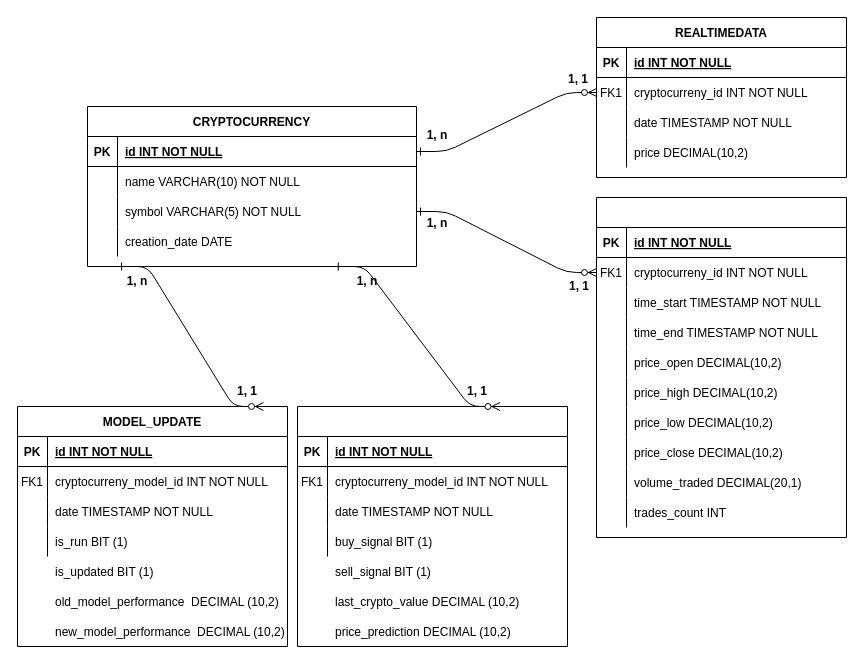
Image size: 864x664. Some labels were removed from this diagram. The box of each missing label's shape, as (x1, y1, x2, y2) in pixels:
HISTORICALDATA: (596, 196, 846, 538)
MODEL_PREDICTION: (296, 406, 568, 646)
